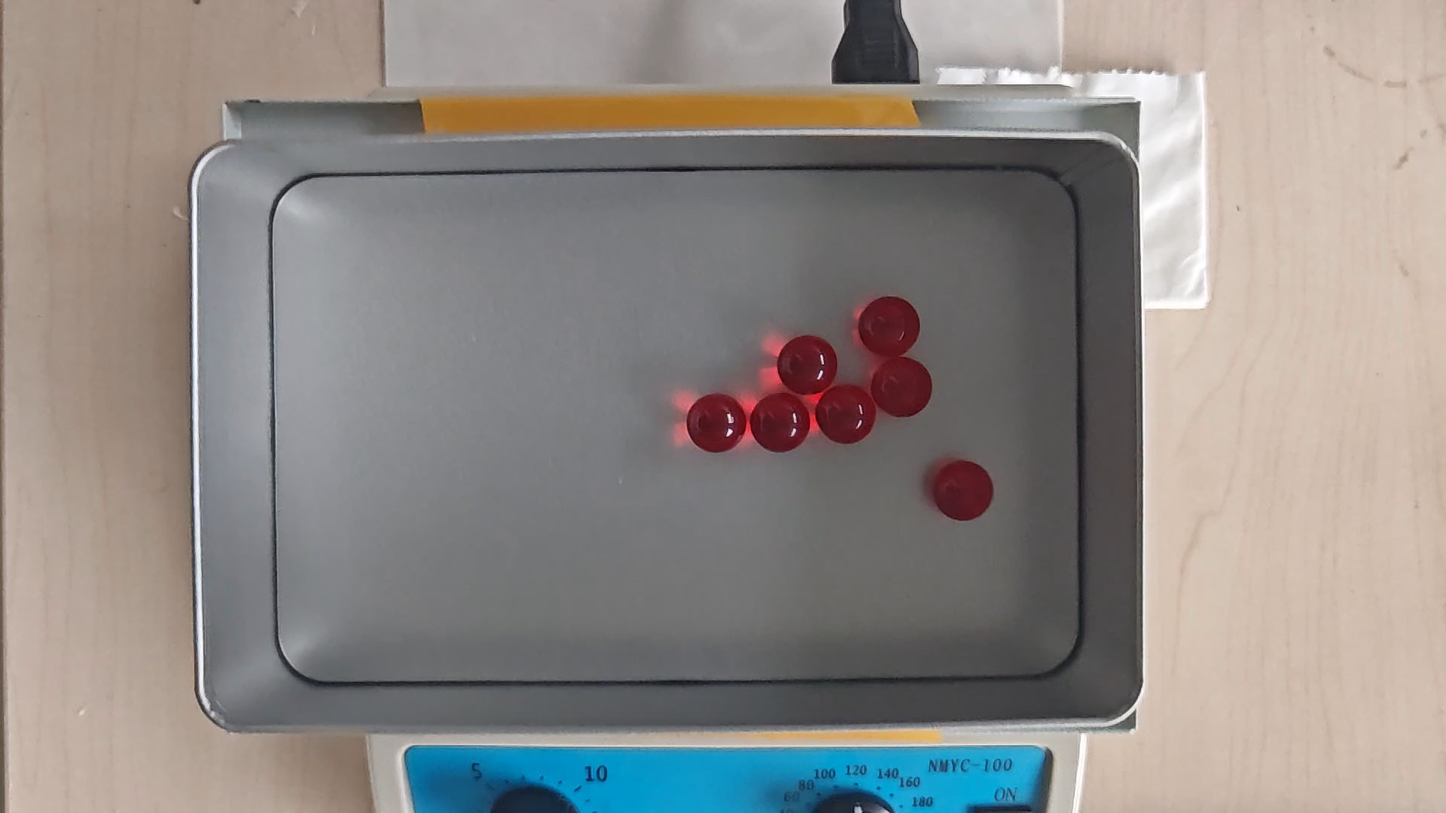ball: (858, 294, 920, 359), (872, 356, 933, 419), (776, 335, 836, 399), (933, 460, 994, 522), (685, 392, 746, 453), (816, 384, 876, 446), (751, 391, 810, 453)
container: (270, 172, 1078, 680)
